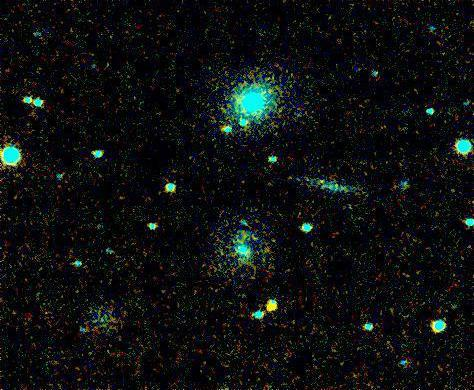star: (258, 292, 288, 322)
